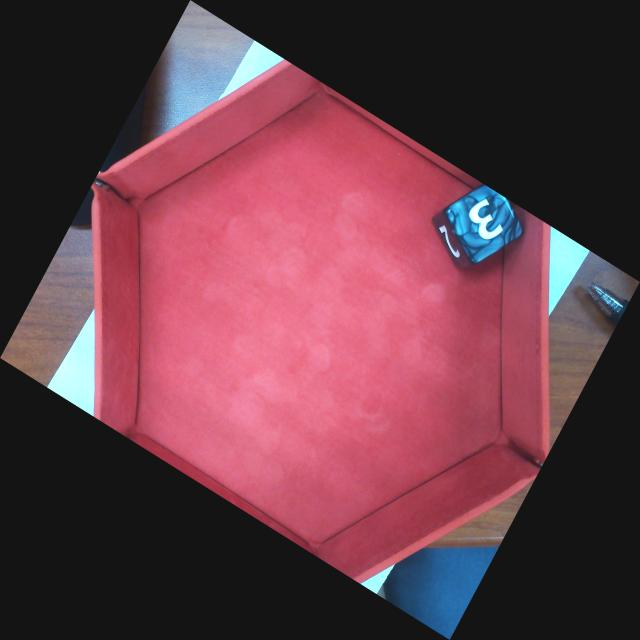dice: (451, 185, 521, 260)
